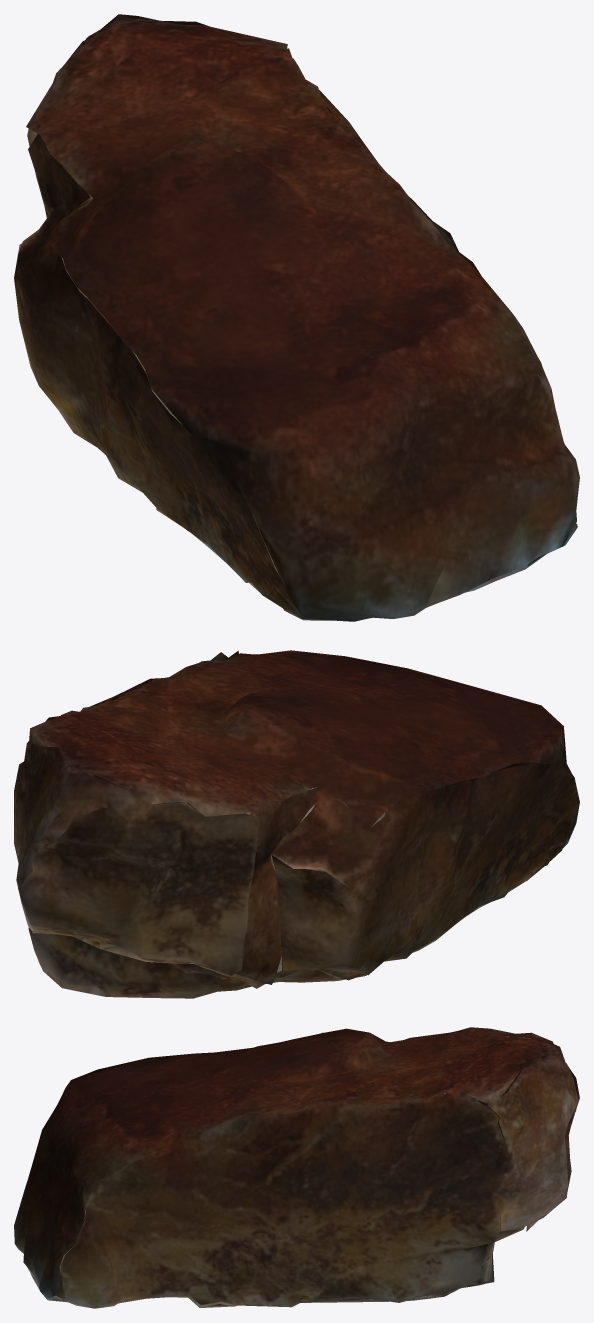
File: rock_07_1k.gltf.lod.glb
3 views of the same model, one above another, from view 1: azimuth 30°, elevation 25°; view 2: azimuth 150°, elevation 25°; view 3: azimuth 270°, elevation 25° (orthographic). The views are drawn at different scales.
Visible parts, largest first — view 1: rock_07; view 2: rock_07; view 3: rock_07.
Part boxes in pixels (left/top/right/bottom): rock_07: left=14, top=14, right=579, bottom=621; rock_07: left=14, top=650, right=579, bottom=998; rock_07: left=14, top=1027, right=579, bottom=1308.
Bounding box in the file's own units: 0.1697 × 0.1432 × 0.321.
Materials: 1 (1 with a texture image).
